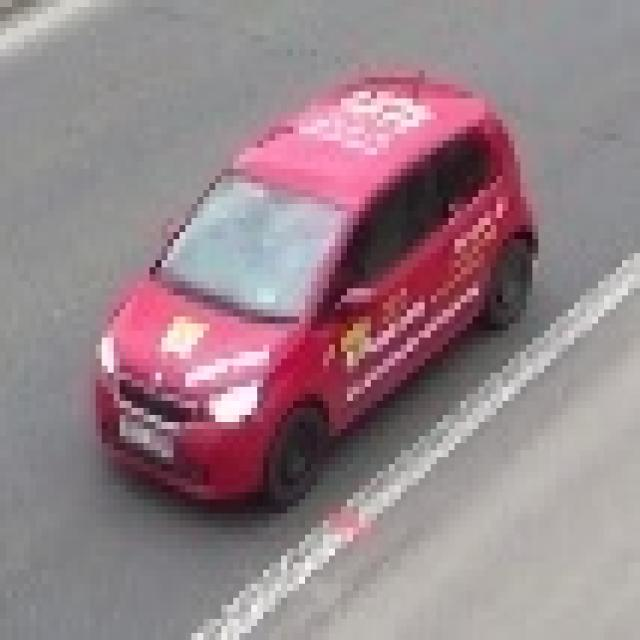red: (88, 78, 536, 509)
